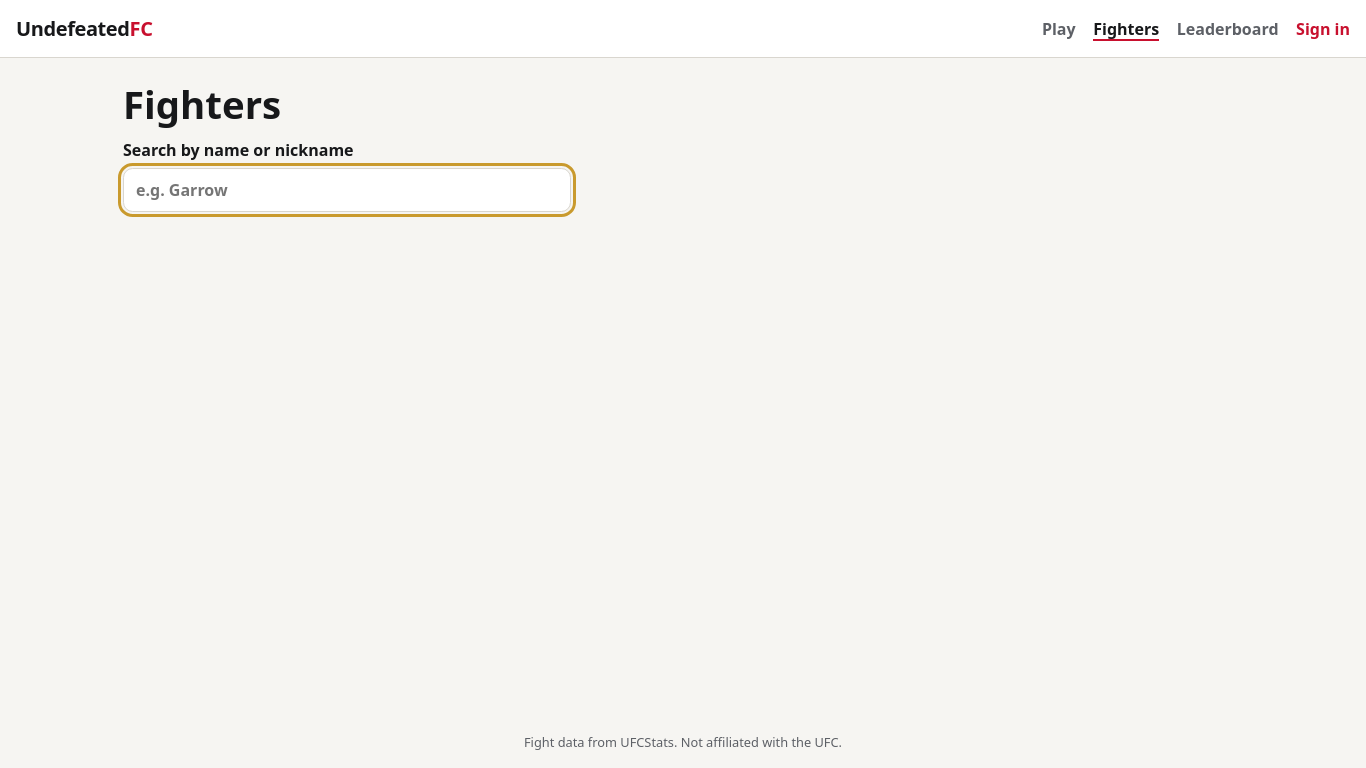
Test: waits for a pause in typing before searching
Type "abc" into the search field labelled "Search by name or nickname" at (347, 190), box left=123, top=168, right=571, bottom=212
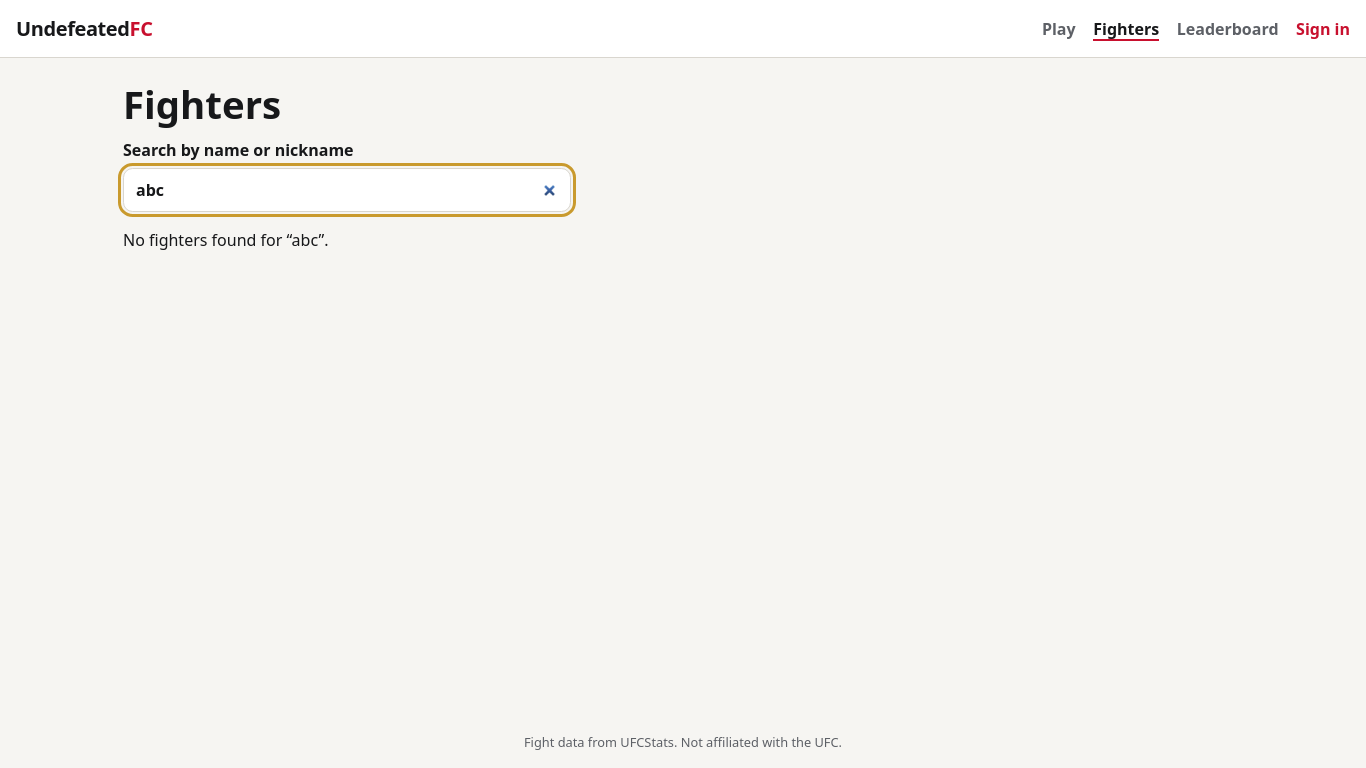
Expected: the text "No fighters found for “abc”." is shown, left=123, top=228, right=328, bottom=250
